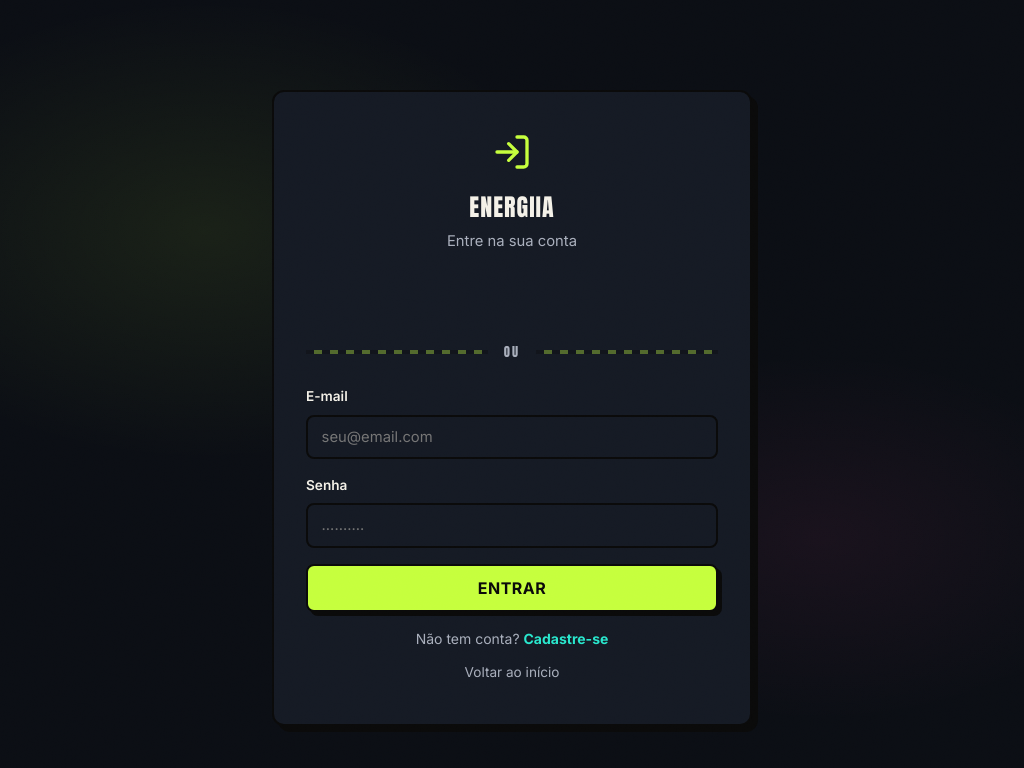
Test case: Login › disables submit button while loading
The width and height of the screenshot is (1024, 768).
In the field labelled "E-mail": (512, 437) x1=306 y1=415 x2=718 y2=459, type "a@a.com"
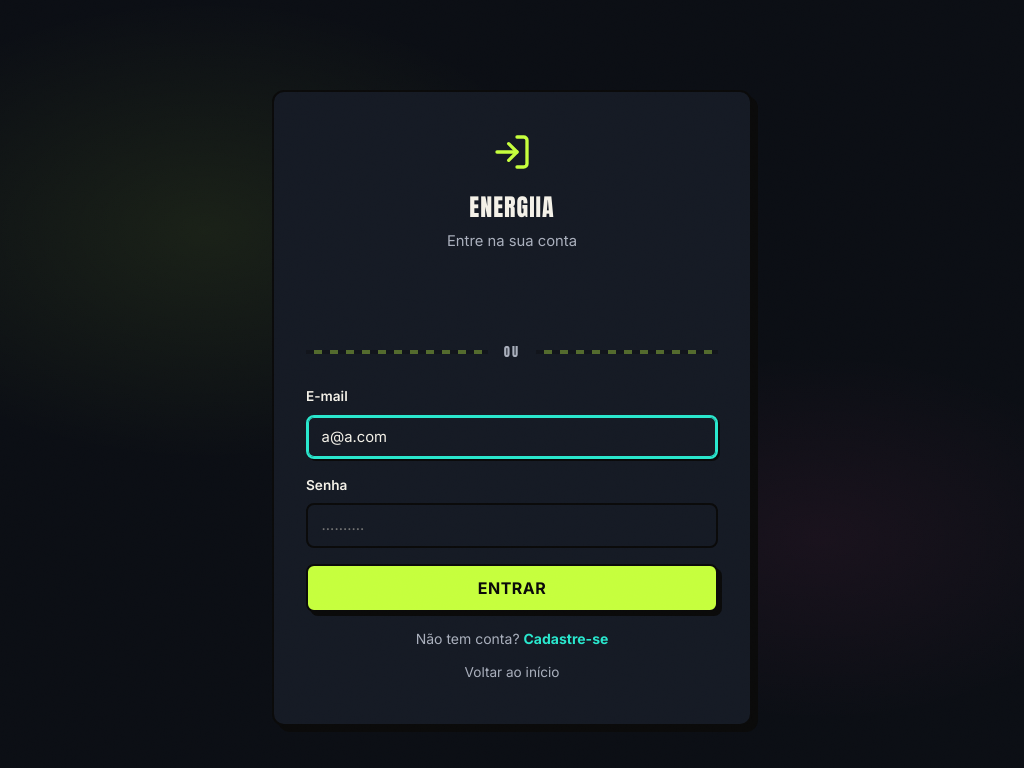
In the password field labelled "Senha": (512, 525) x1=306 y1=503 x2=718 y2=548, type "secret123"
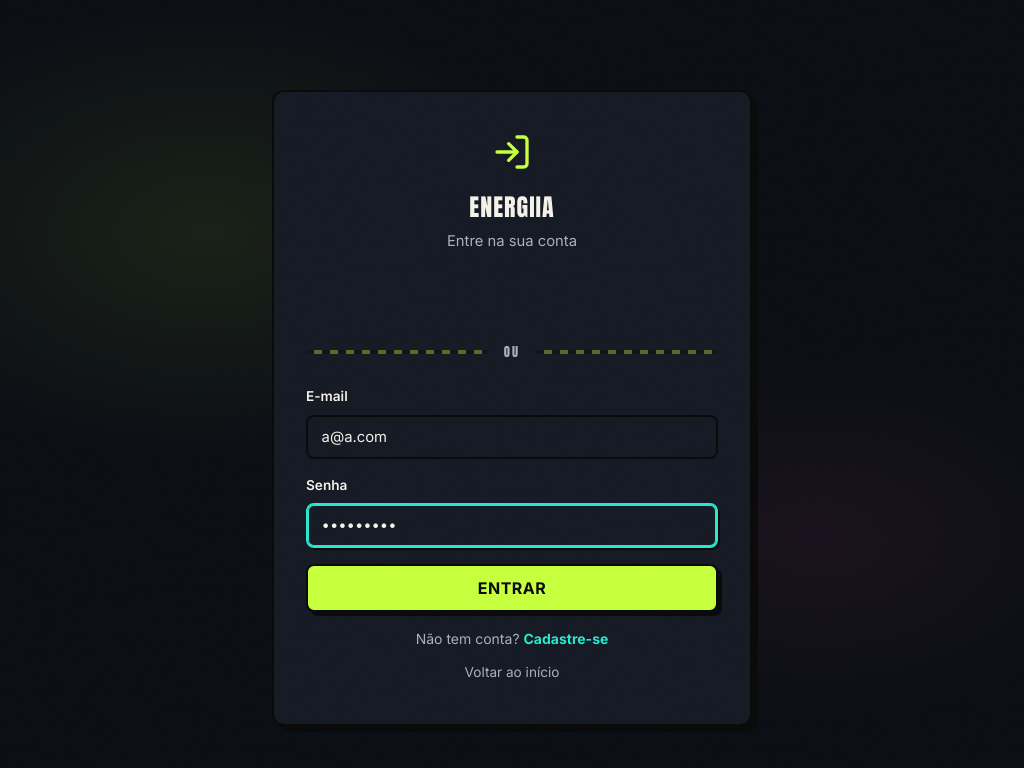
Click the button "Entrar": (512, 588) x1=306 y1=564 x2=718 y2=612
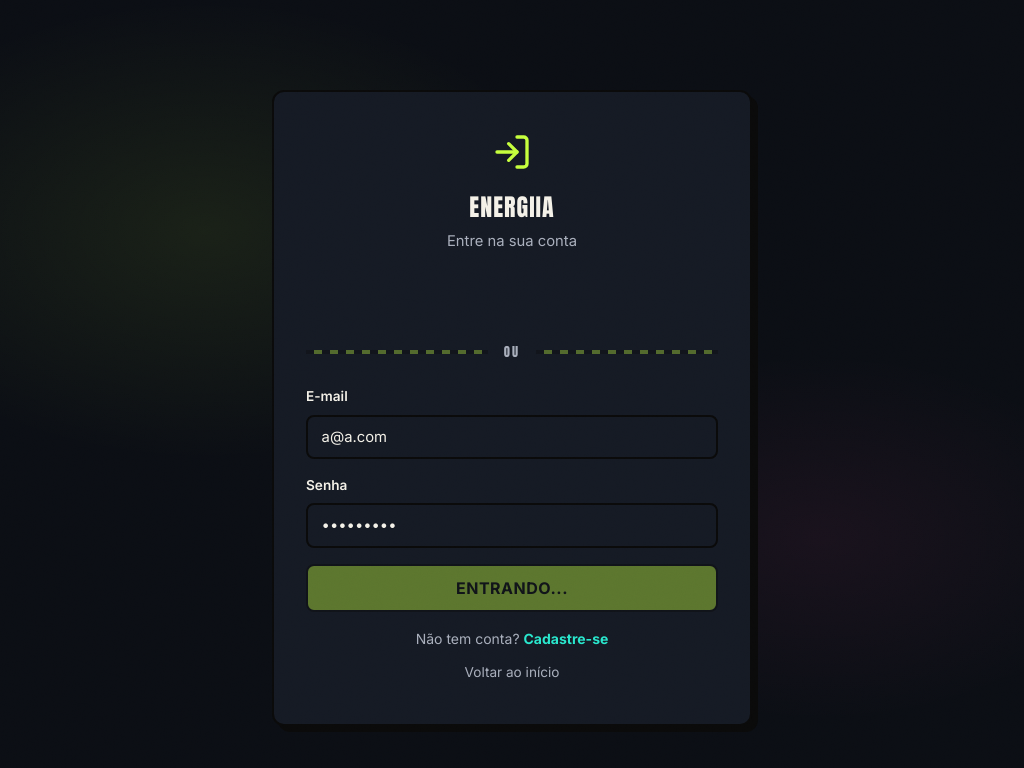
Expected: the button "Entrando..." is disabled, x1=306 y1=564 x2=718 y2=612
